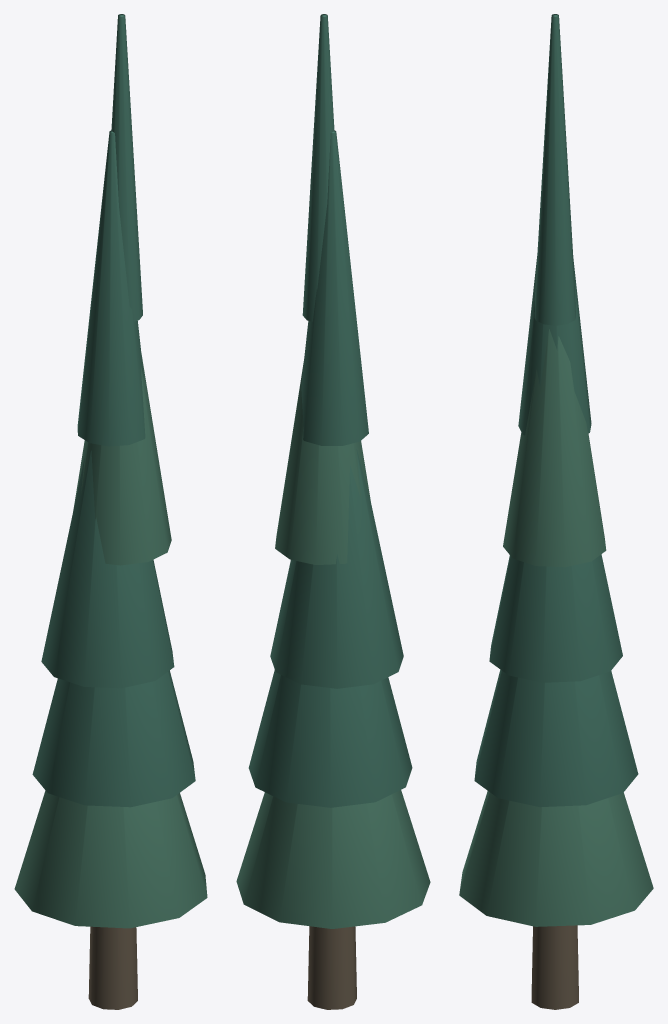
Rendered from cypress_tree_variant_03.glb.
3 views of the same model, side by side, from view 1: azimuth 30°, elevation 25°; view 2: azimuth 150°, elevation 25°; view 3: azimuth 270°, elevation 25° (orthographic).
Parts seen in each view (by area): view 1: static_leaf_pine, static_leaf_pine_light, trunk; view 2: static_leaf_pine, static_leaf_pine_light, trunk; view 3: static_leaf_pine, static_leaf_pine_light, trunk.
Boxes of the visible parts, x1,y1,x2,y2 form: static_leaf_pine: (32,14,195,807); static_leaf_pine_light: (14,353,207,928); trunk: (88,926,137,1009); static_leaf_pine: (248,14,412,807); static_leaf_pine_light: (236,361,430,928); trunk: (307,926,356,1009); static_leaf_pine: (474,14,638,807); static_leaf_pine_light: (459,329,653,926); trunk: (531,925,578,1009).
Size of the model in its own units: 1.56 by 8.74 by 1.56.
